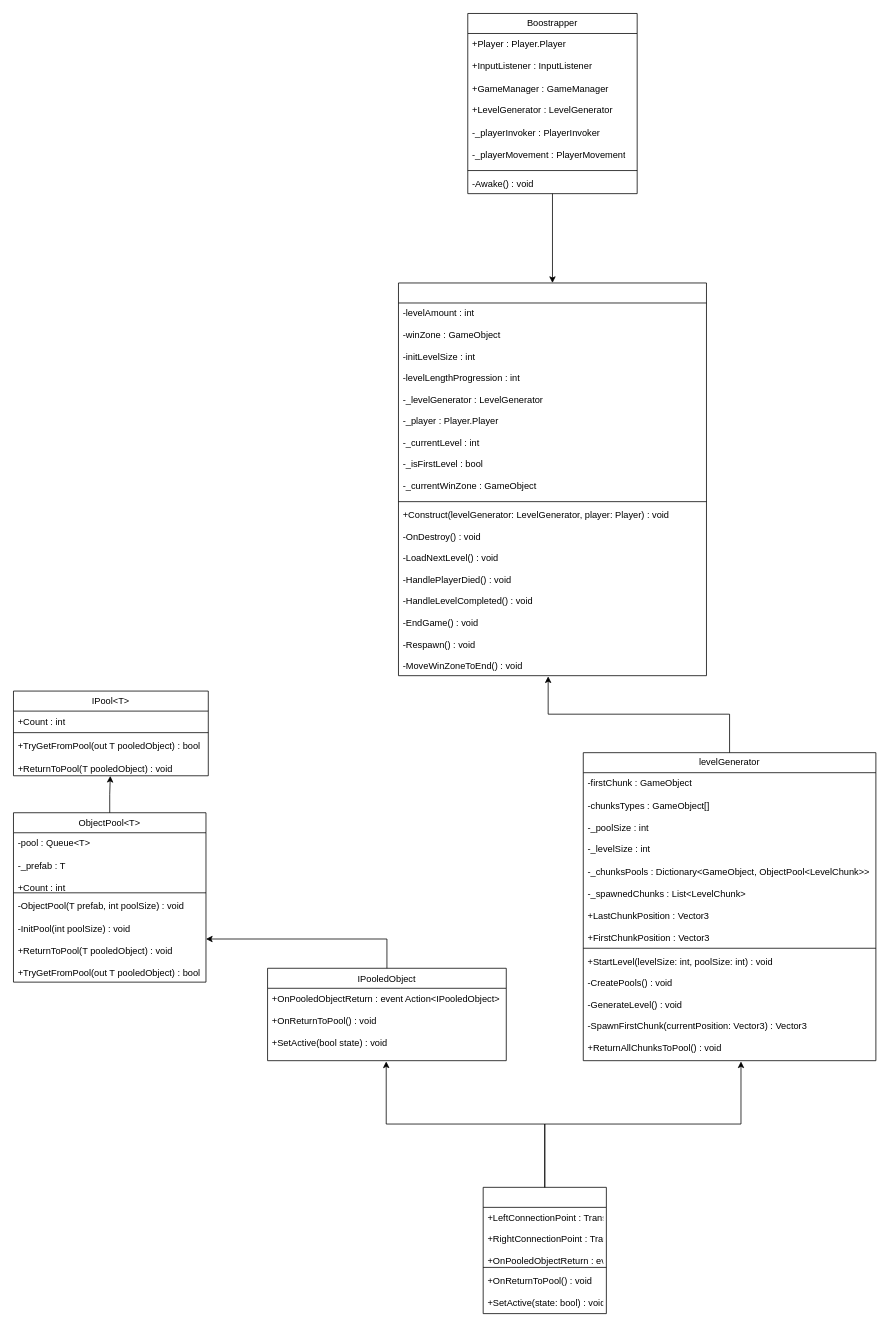
The diagram is 889 pixels wide and 1327 high, and some of its shapes have lost their labels. Each missing label, with the box of its shape:
GameManager: (398, 282, 706, 676)
LevelChunk: (482, 1187, 606, 1314)
